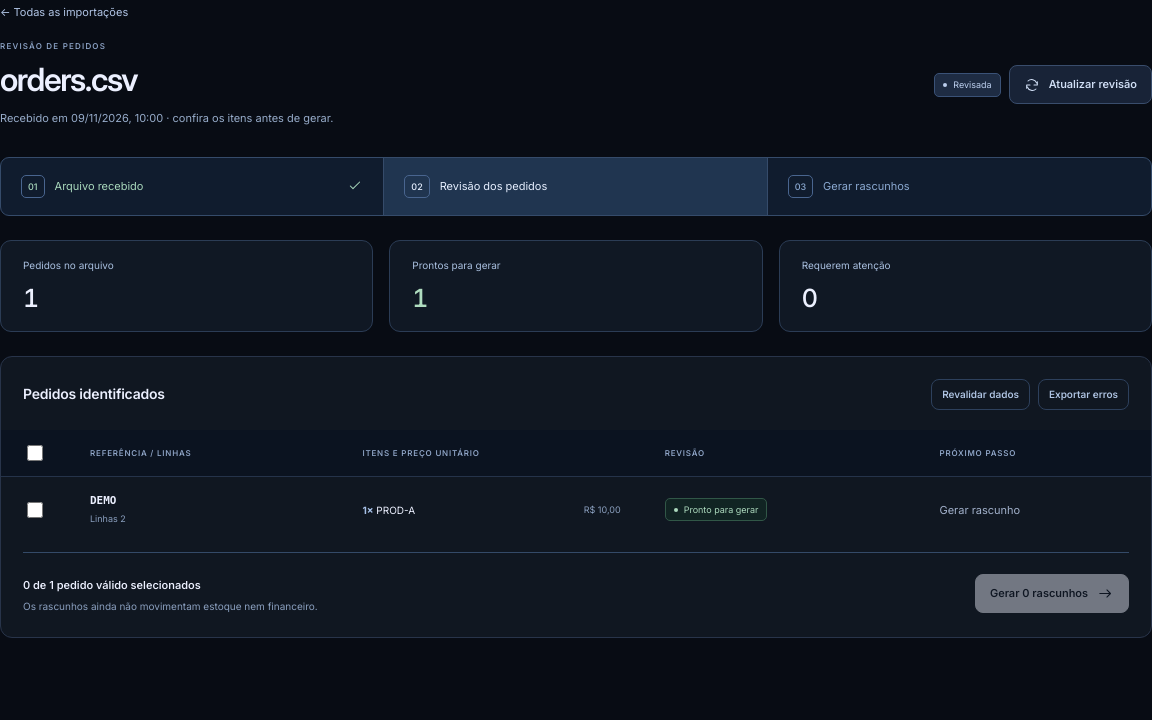
409 de catálogo exige clique explícito para revalidar e bloqueia outra geração
The width and height of the screenshot is (1152, 720).
Click the checkbox named "Selecionar DEMO" at [35, 509], box [27,501,43,517]
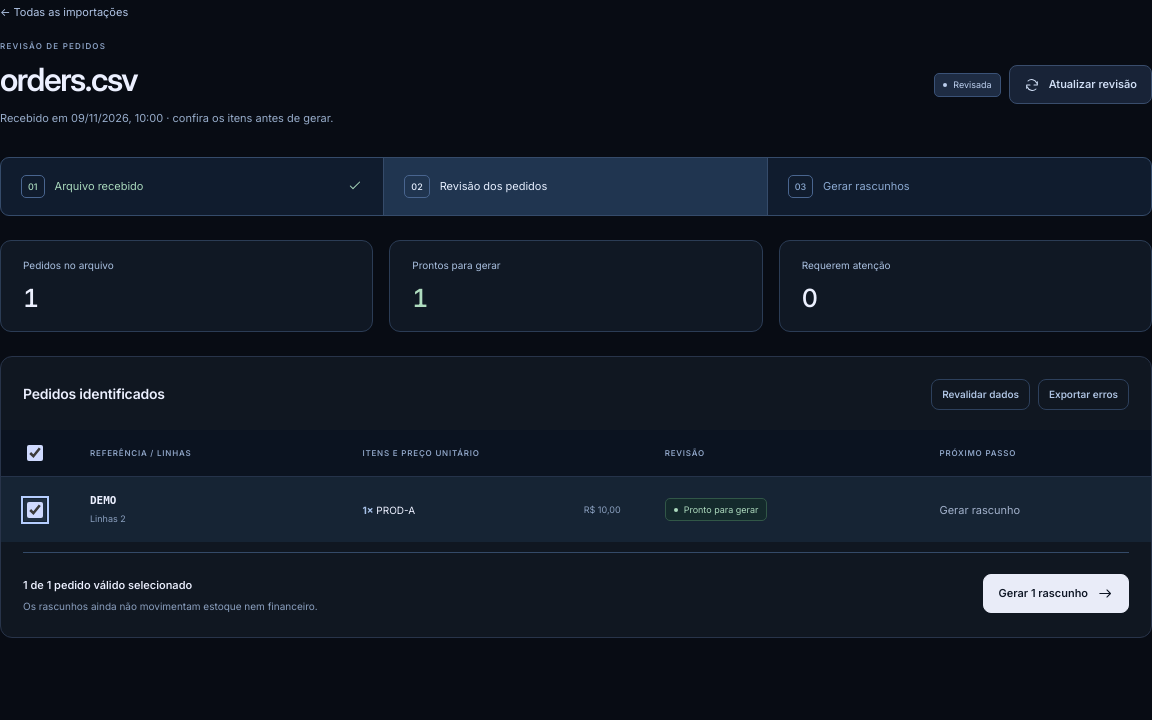
Click the button "Gerar 1 rascunho" at [1056, 594], box [984,574,1129,613]
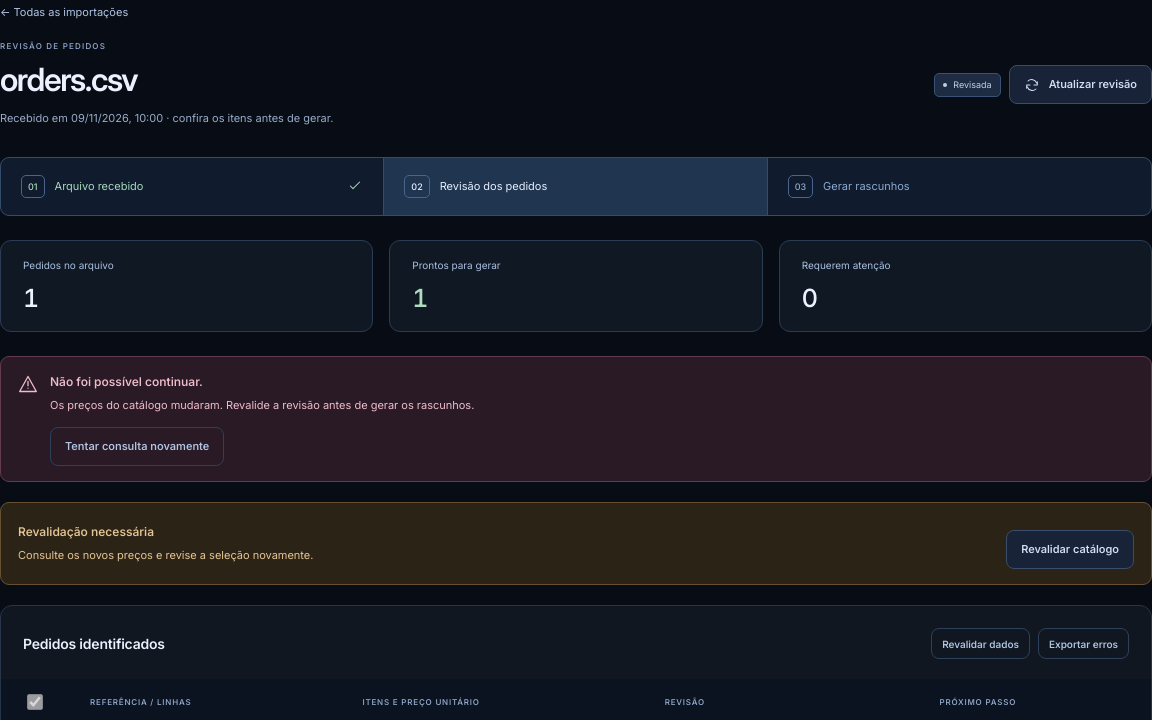
Result: the message shows "Os preços do catálogo mudaram." at [50,398,474,412]
Click the button "Revalidar catálogo" at [1070, 550], box [1006,530,1134,569]
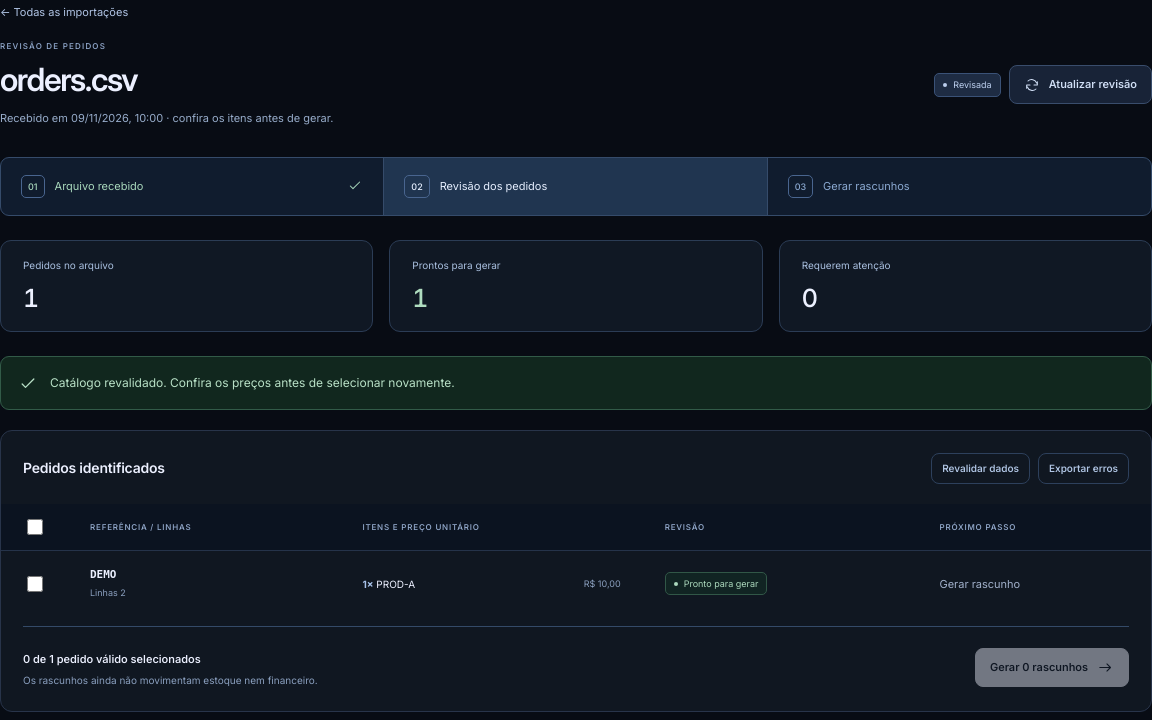
Result: the message shows "Catálogo revalidado" at [50,375,455,390]
